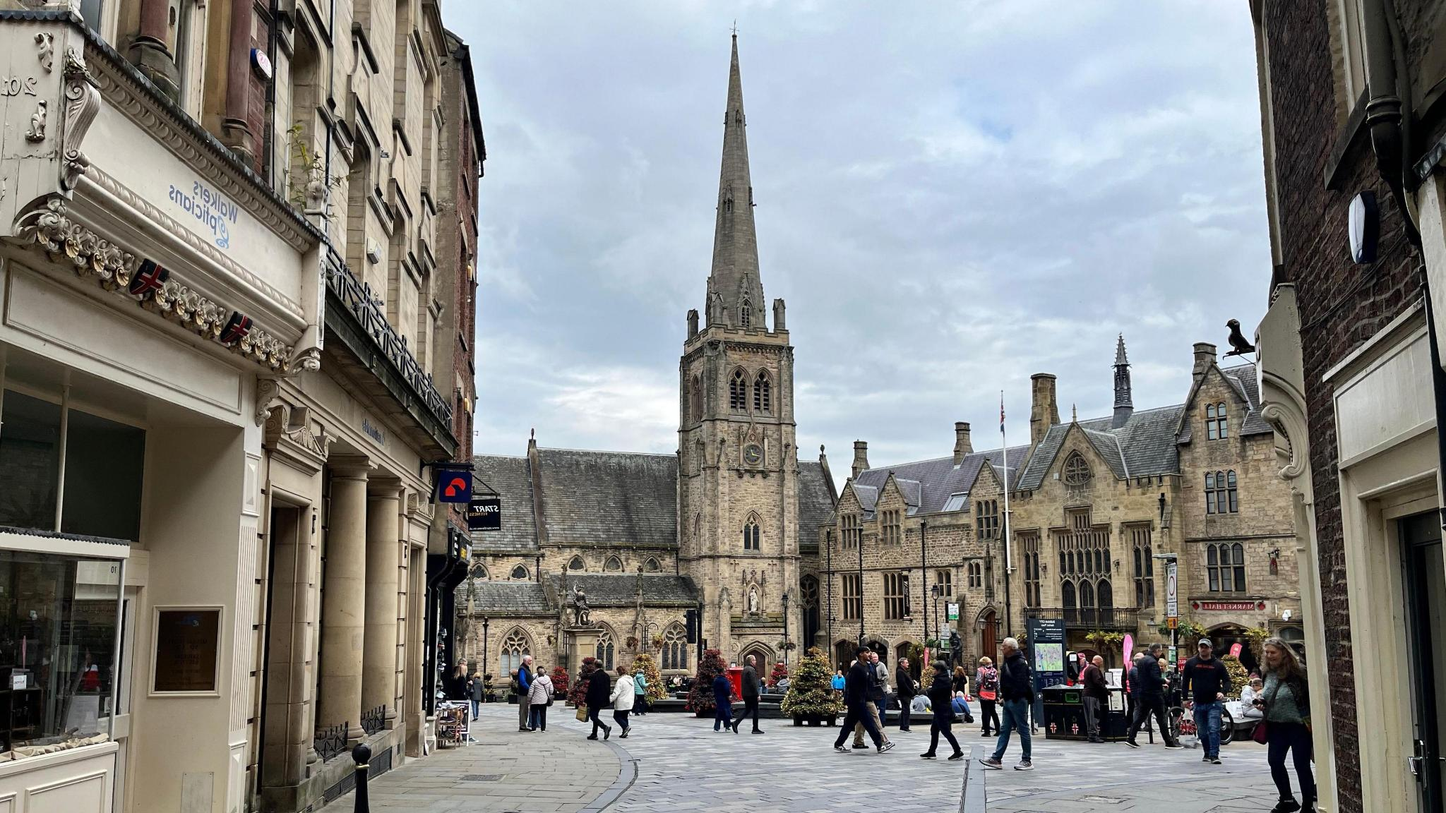coat: (999, 648, 1034, 700), (925, 673, 954, 714), (608, 674, 635, 710), (526, 677, 555, 704), (895, 666, 916, 699), (468, 678, 486, 700), (633, 673, 648, 695), (775, 679, 791, 694), (831, 675, 846, 690)
jacket: (1137, 655, 1165, 700), (584, 669, 611, 709), (1081, 663, 1109, 698), (741, 665, 759, 695)
sweater: (1260, 668, 1304, 725), (1182, 653, 1232, 701), (1240, 684, 1261, 712)
trousers: (1267, 723, 1316, 807), (991, 697, 1031, 760), (1128, 694, 1173, 746), (836, 703, 884, 748), (1194, 699, 1223, 759), (927, 712, 962, 754), (735, 695, 760, 733), (979, 697, 1001, 735), (867, 701, 887, 742), (1082, 696, 1102, 733), (588, 707, 607, 736), (613, 708, 631, 735), (530, 703, 548, 730), (900, 698, 914, 731), (853, 720, 868, 748), (518, 694, 529, 728), (470, 700, 481, 719), (1014, 755, 1036, 761), (759, 686, 769, 694)
